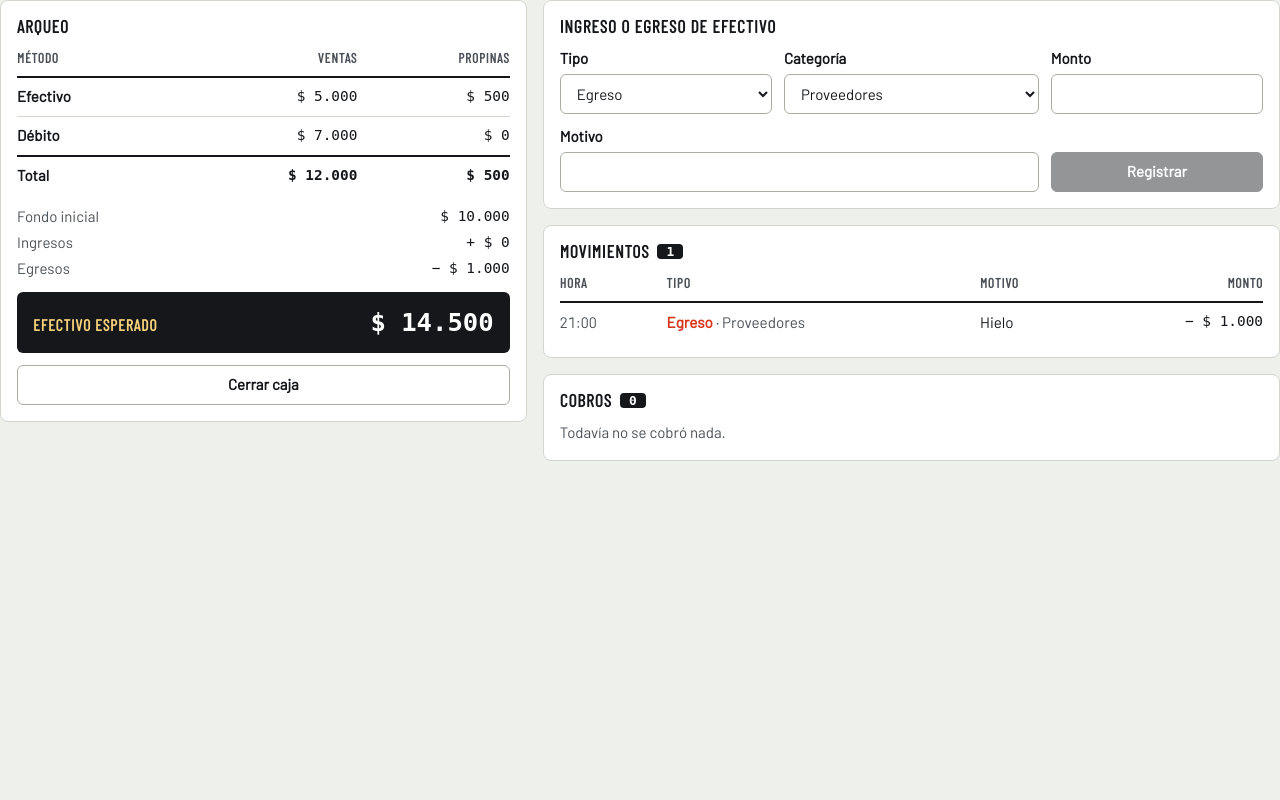
Test: al cerrar muestra la diferencia antes de confirmar
The image size is (1280, 800).
Later steps or results of the test are not shown.
Click the button "Cerrar caja" at [263, 385], box [17,365,510,405]
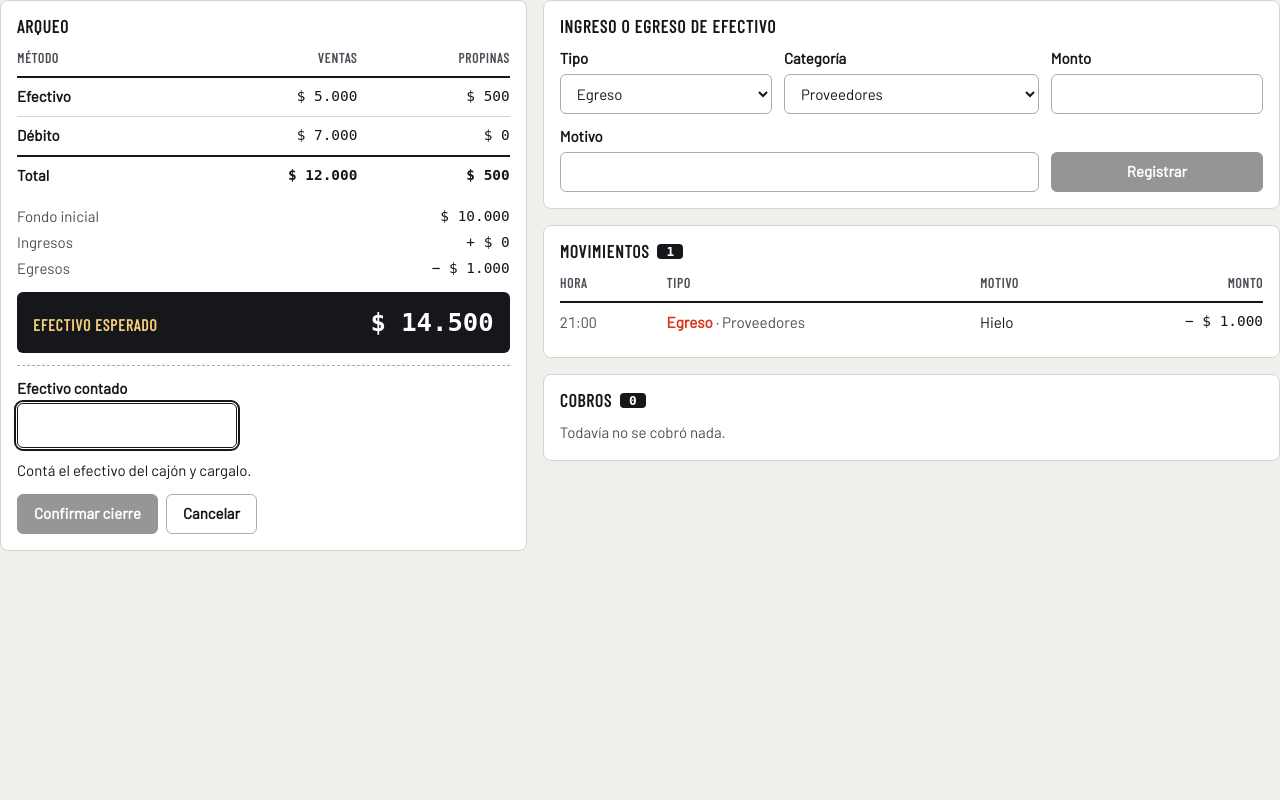
Type "14.000" into the field labelled "Efectivo contado" at [127, 426], box [17,403,237,448]
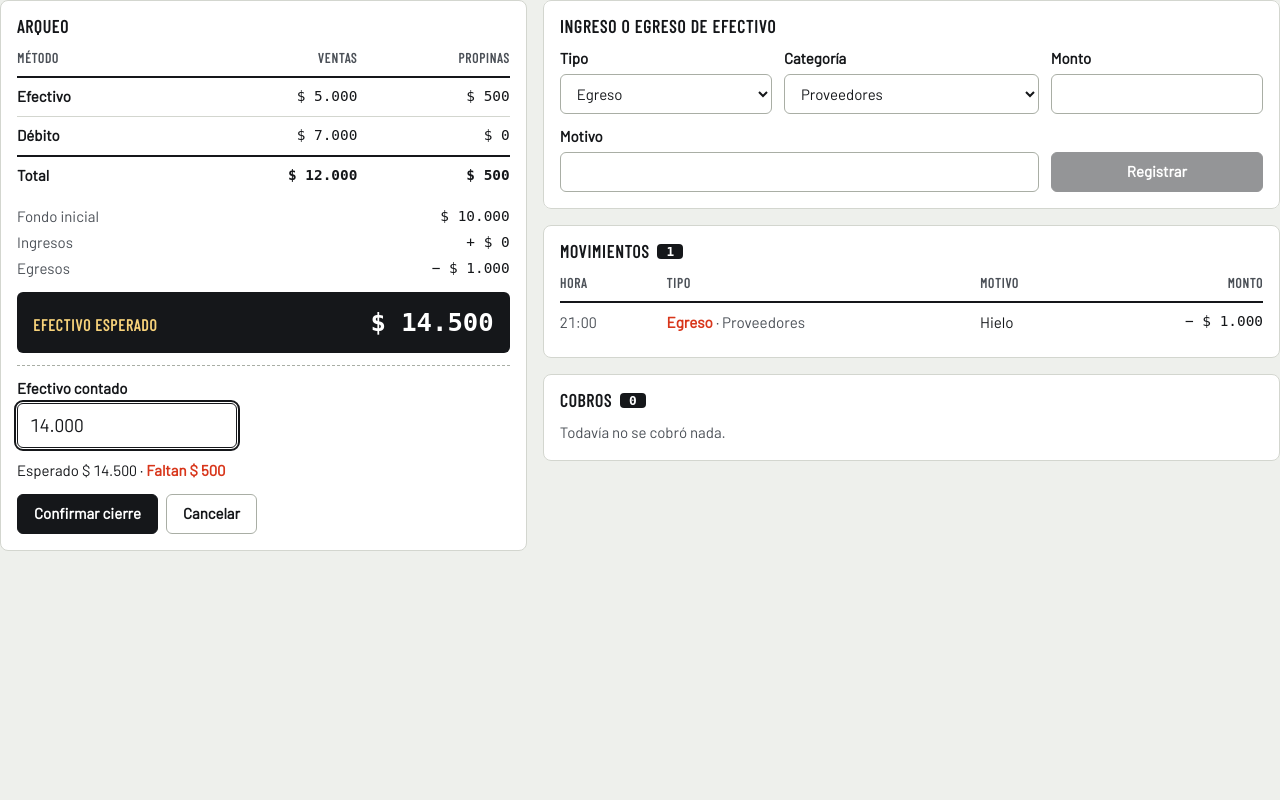
Expected: the text "Faltan $ 500" is shown, [146,461,226,479]
